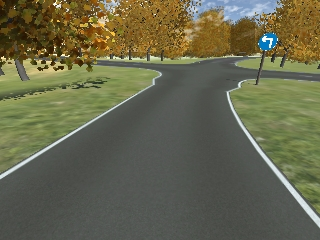left: (259, 34, 277, 49)
